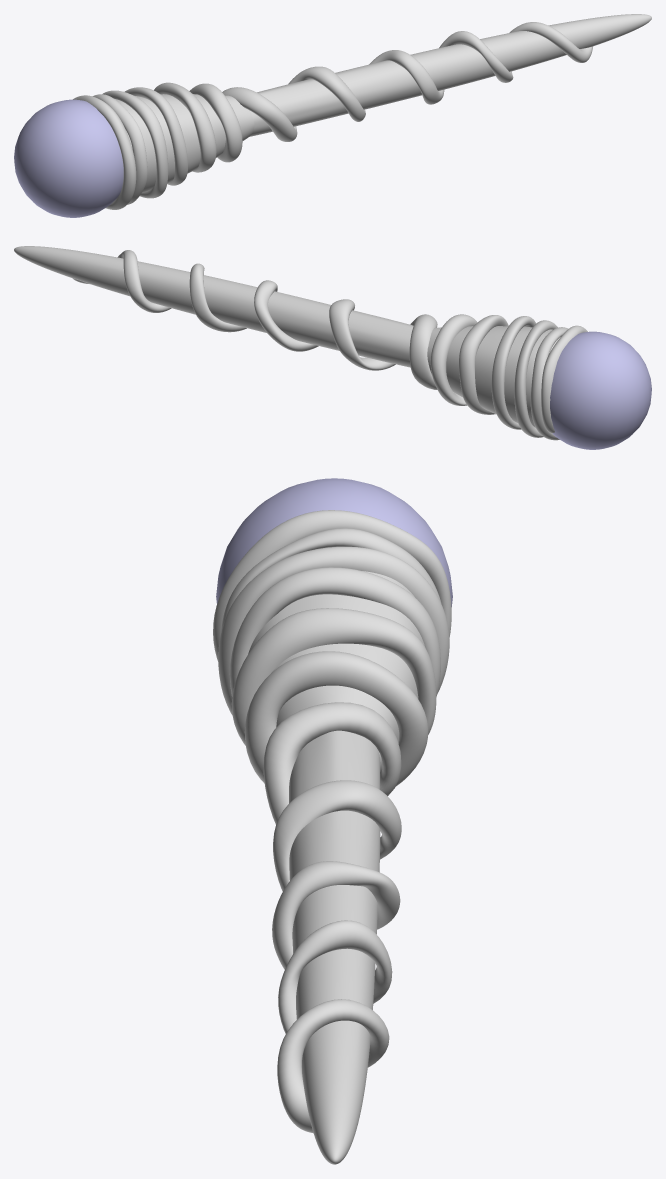
The model's file is Asa_Export.fbx.
The picture shows the model from 3 angles, top to bottom: view 1: azimuth 30°, elevation 25°; view 2: azimuth 150°, elevation 25°; view 3: azimuth 270°, elevation 25°; orthographic projection. The views are drawn at different scales.
Parts seen in each view (by area): view 1: Asa, Sphere; view 2: Asa, Sphere; view 3: Asa, Sphere.
Boxes of the visible parts, x1,y1,x2,y2 form: Asa: [73, 14, 651, 209]; Sphere: [14, 99, 123, 217]; Asa: [14, 246, 587, 440]; Sphere: [550, 331, 651, 449]; Asa: [213, 510, 451, 1164]; Sphere: [216, 478, 452, 606].
Size of the model in its own units: 1686 by 276 by 278.
